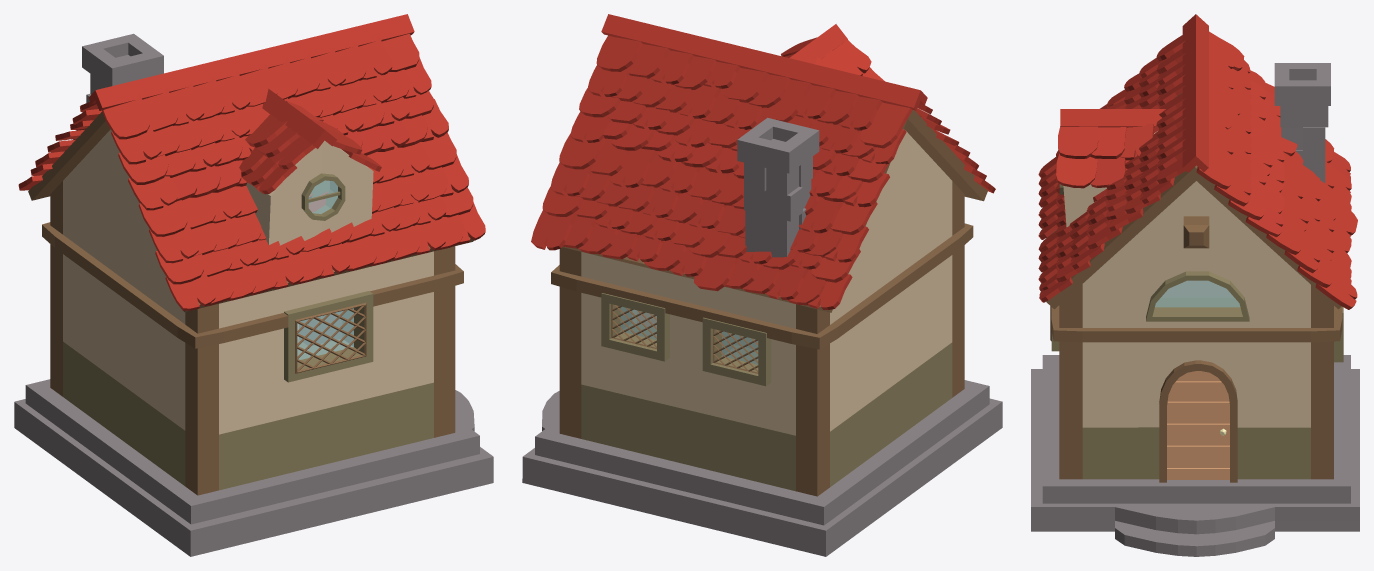
The model's file is Casa3.fbx.
3 views of the same model, side by side, from view 1: azimuth 30°, elevation 25°; view 2: azimuth 150°, elevation 25°; view 3: azimuth 270°, elevation 25° (orthographic). The views are drawn at different scales.
Parts seen in each view (by area): view 1: paredes.002, Tejas2.001, TEJADO.002, Cube.025, paredes.003, chimenea.001, Plane.003, TEJADO.003, Cylinder.004, Plane.002, TEJADO.004, Tejas2.004 (+2 smaller); view 2: paredes.002, Plane.002, chimenea.001, TEJADO.002, paredes.004, paredes.005, TEJADO.003, Tejas2.001, TEJADO.004, Plane.004, Plane.005, Tejas2.004; view 3: paredes.002, Plane.002, Tejas2.001, paredes.006, chimenea.001, Cylinder.003, TEJADO.002, TEJADO.003, TEJADO.004, Tejas2.008, Tejas2.011, Cube.025 (+4 smaller).
Boxes of the visible parts, x1,y1,x2,y2 form: paredes.002: [14, 129, 493, 556]; Tejas2.001: [102, 33, 485, 310]; TEJADO.002: [88, 14, 414, 110]; Cube.025: [246, 140, 373, 245]; paredes.003: [284, 291, 373, 382]; chimenea.001: [82, 33, 163, 102]; Plane.003: [295, 302, 366, 373]; TEJADO.003: [28, 111, 473, 312]; Cylinder.004: [301, 173, 345, 220]; Plane.002: [18, 102, 101, 190]; TEJADO.004: [262, 88, 336, 148]; Tejas2.004: [271, 136, 315, 169]; paredes.002: [522, 130, 1002, 556]; Plane.002: [531, 35, 912, 309]; chimenea.001: [737, 117, 819, 257]; TEJADO.002: [601, 14, 927, 110]; paredes.004: [601, 293, 669, 361]; paredes.005: [702, 317, 771, 386]; TEJADO.003: [562, 110, 987, 312]; Tejas2.001: [915, 103, 995, 193]; TEJADO.004: [789, 24, 847, 63]; Plane.004: [611, 304, 656, 349]; Plane.005: [713, 329, 758, 373]; Tejas2.004: [833, 38, 871, 75]; paredes.002: [1031, 181, 1359, 556]; Plane.002: [1196, 31, 1357, 309]; Tejas2.001: [1038, 35, 1185, 302]; paredes.006: [1167, 371, 1229, 479]; chimenea.001: [1274, 63, 1330, 182]; Cylinder.003: [1146, 271, 1249, 321]; TEJADO.002: [1182, 14, 1208, 172]; TEJADO.003: [1046, 93, 1341, 309]; TEJADO.004: [1060, 109, 1165, 127]; Tejas2.008: [1058, 126, 1098, 158]; Tejas2.011: [1056, 153, 1097, 188]; Cube.025: [1063, 131, 1157, 227].
Size of the model in its own units: 5071 by 5346 by 4233.
